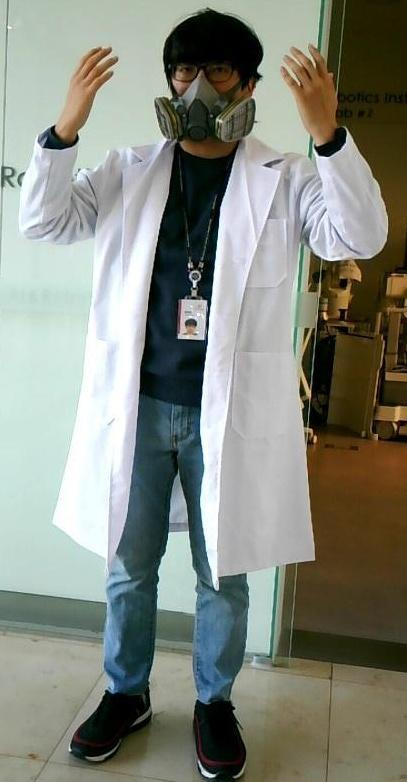lab_coat: (43, 160, 345, 522)
